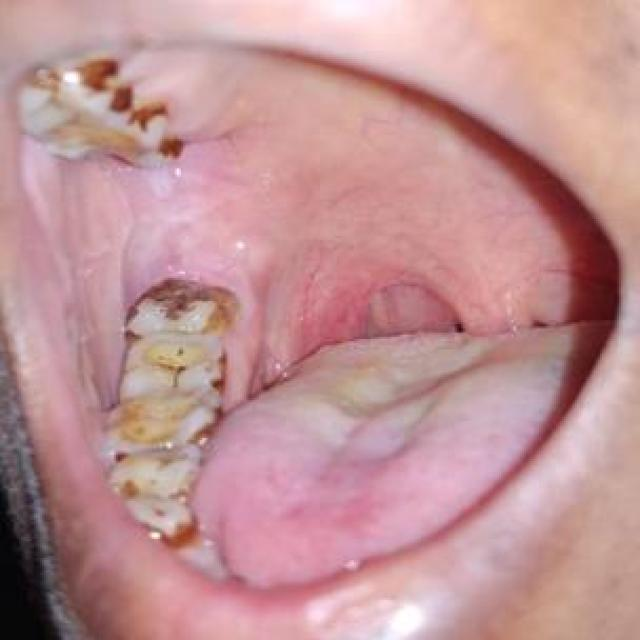processing_area: (21, 47, 569, 590)
